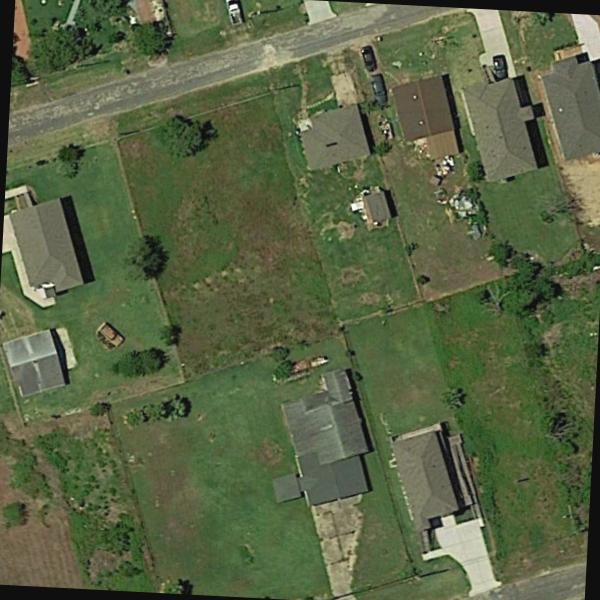Buildings: (273, 377, 371, 514), (0, 190, 94, 296), (464, 86, 528, 190), (397, 426, 455, 538), (398, 76, 464, 160), (544, 61, 600, 157), (301, 104, 364, 166), (7, 330, 64, 393), (362, 193, 400, 226)
